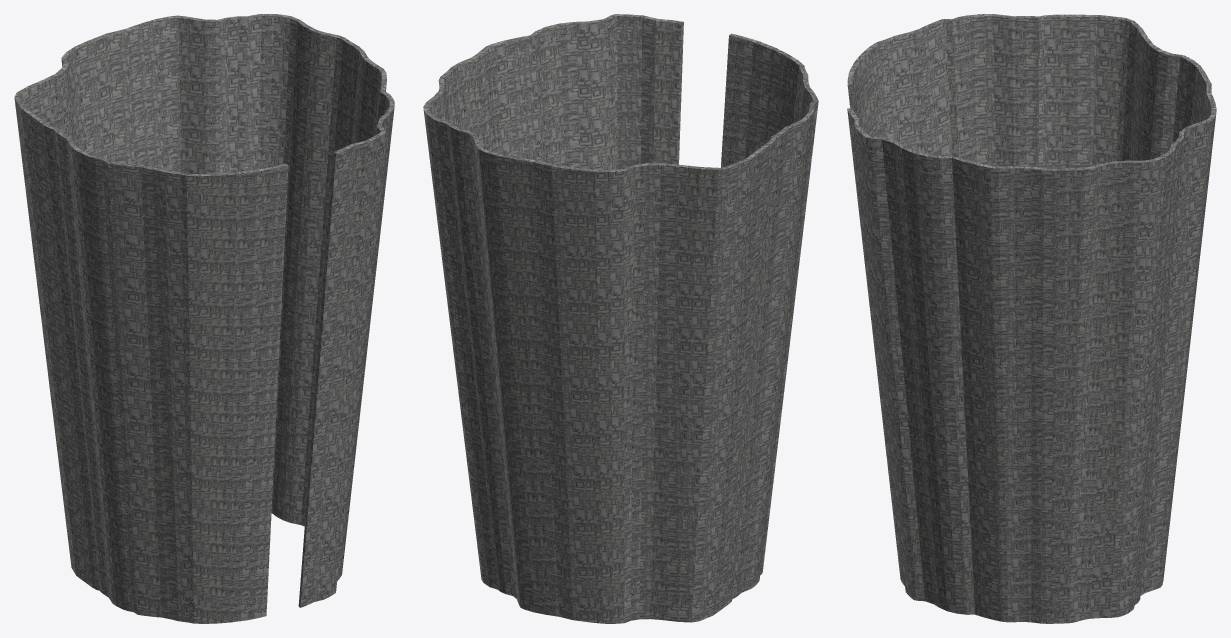
Rendered from Area5_Border.fbx.
3 views of the same model, side by side, from view 1: azimuth 30°, elevation 25°; view 2: azimuth 150°, elevation 25°; view 3: azimuth 270°, elevation 25° (orthographic).
Parts seen in each view (by area): view 1: Area5_Border; view 2: Area5_Border; view 3: Area5_Border.
Boxes of the visible parts, bbox=[...] form: Area5_Border: bbox=[14, 14, 394, 623]; Area5_Border: bbox=[423, 14, 818, 623]; Area5_Border: bbox=[847, 14, 1216, 623].
Size of the model in its own units: 3625 by 5119 by 3604.
1 material, 1 textured.
